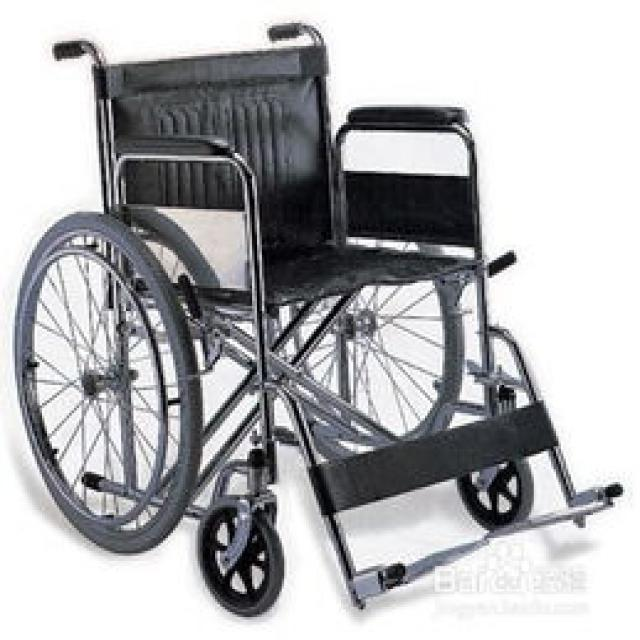wheelchair: (4, 16, 620, 614)
